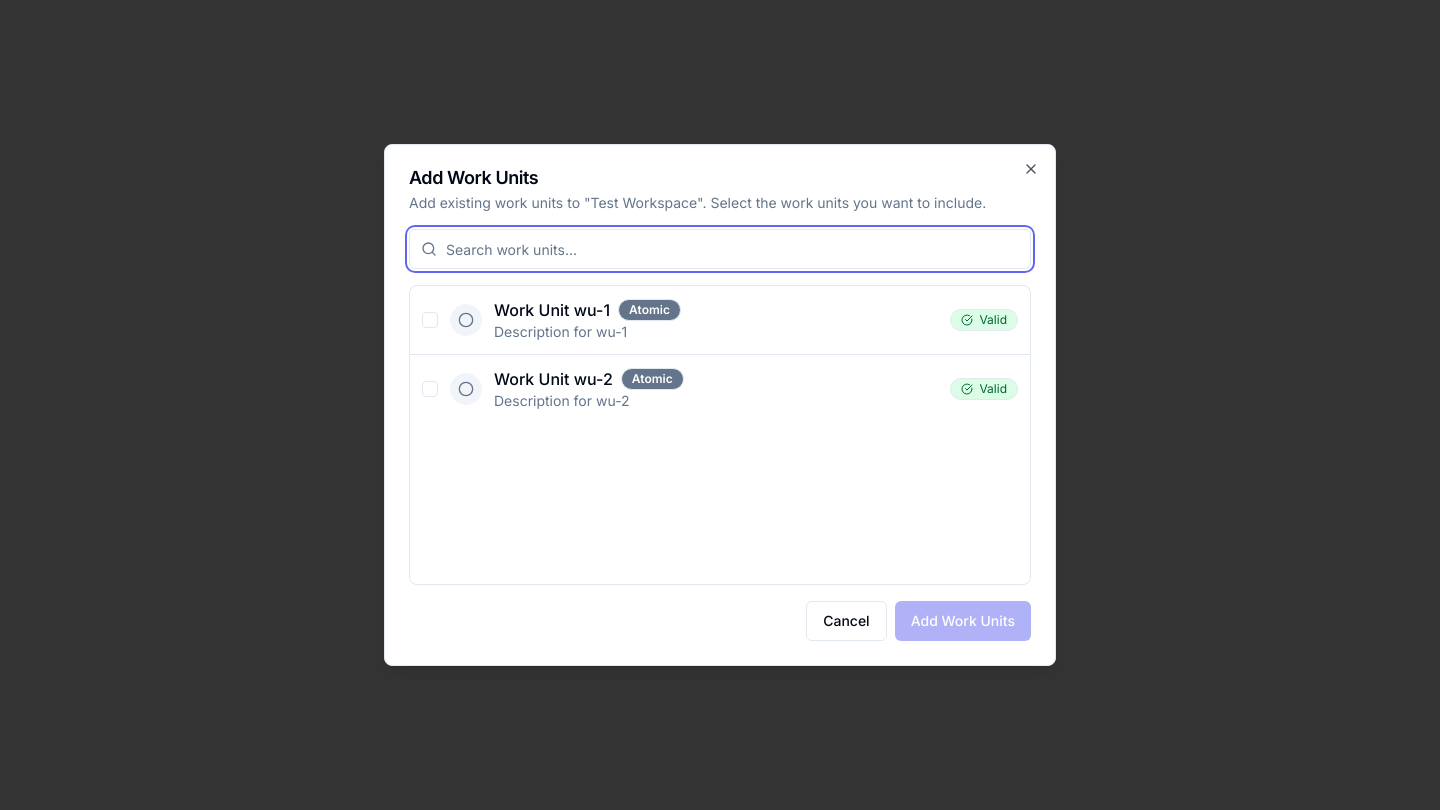
Test: AddWorkUnitDialog › selection › should update Add button text with selection count
The width and height of the screenshot is (1440, 810).
Expected: the button "Add Work Units" is shown, [895,601,1031,641]
// Select one
Click the label with test id "work-unit-option-wu-1". click: (466, 320)
box: [410,286,1030,355]
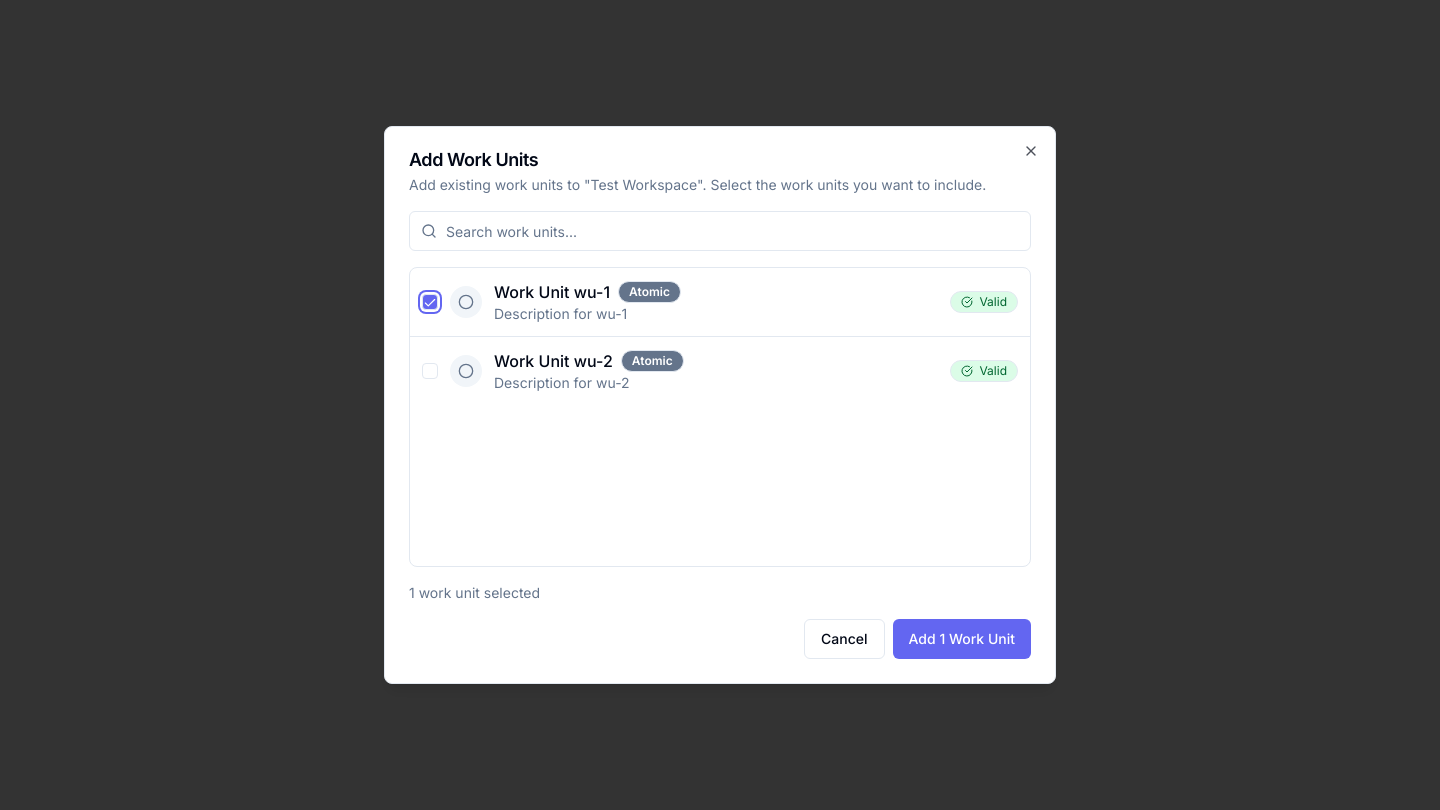
Result: the button "Add 1 Work Unit" is shown at [892,619,1031,659]
// Select two
Click the label with test id "work-unit-option-wu-2". click: (466, 371)
box: [410,337,1030,405]
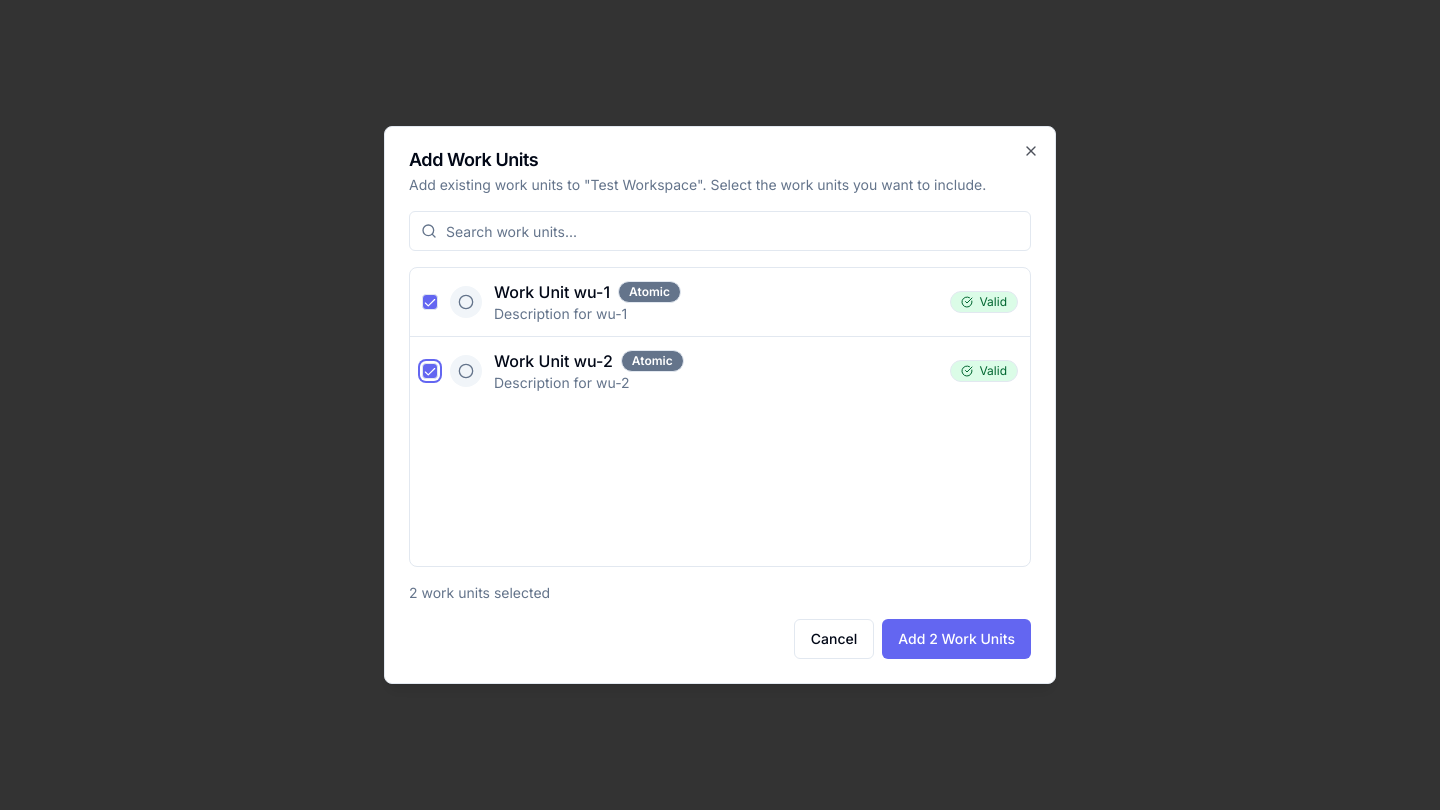
Result: the button "Add 2 Work Units" is shown at [882,619,1031,659]
